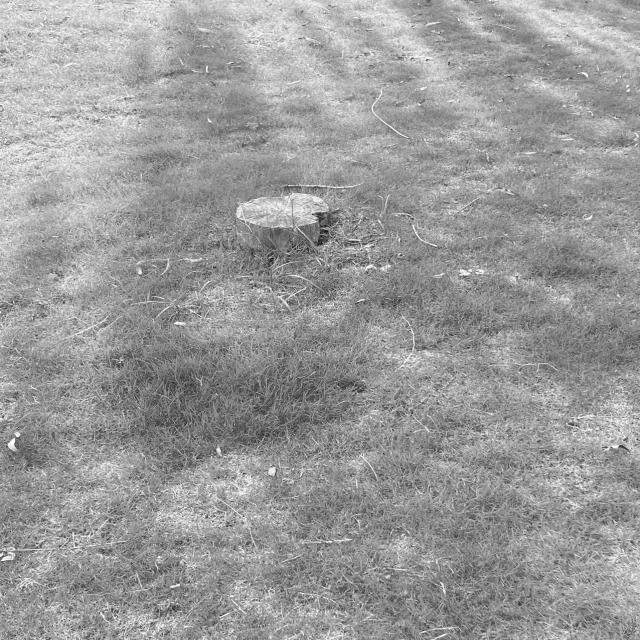Stone: (236, 194, 329, 248)
